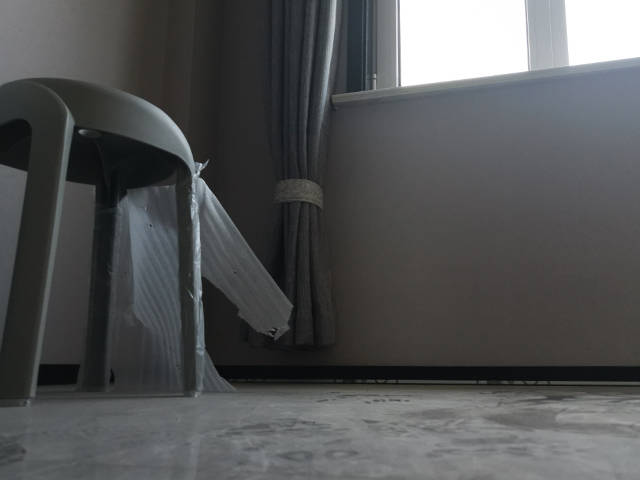curtain: (237, 1, 346, 352)
stool: (1, 74, 206, 409)
